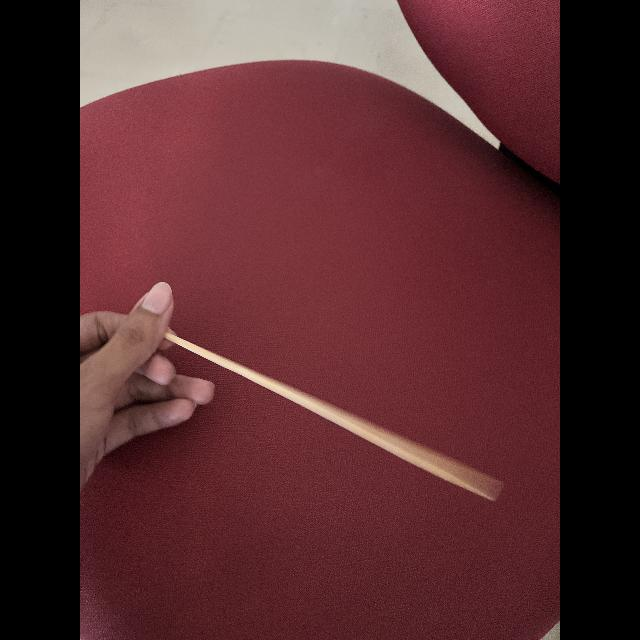stick: (161, 327, 499, 509)
